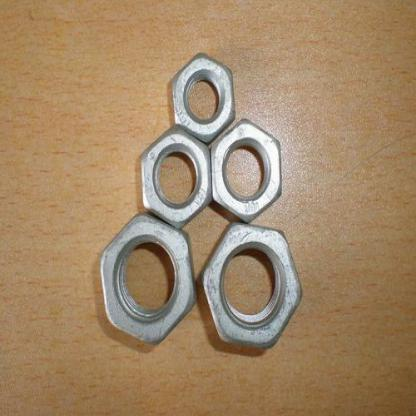FOD: (201, 222, 303, 352), (100, 214, 198, 348), (208, 117, 283, 222), (140, 123, 213, 229), (169, 49, 237, 145)
